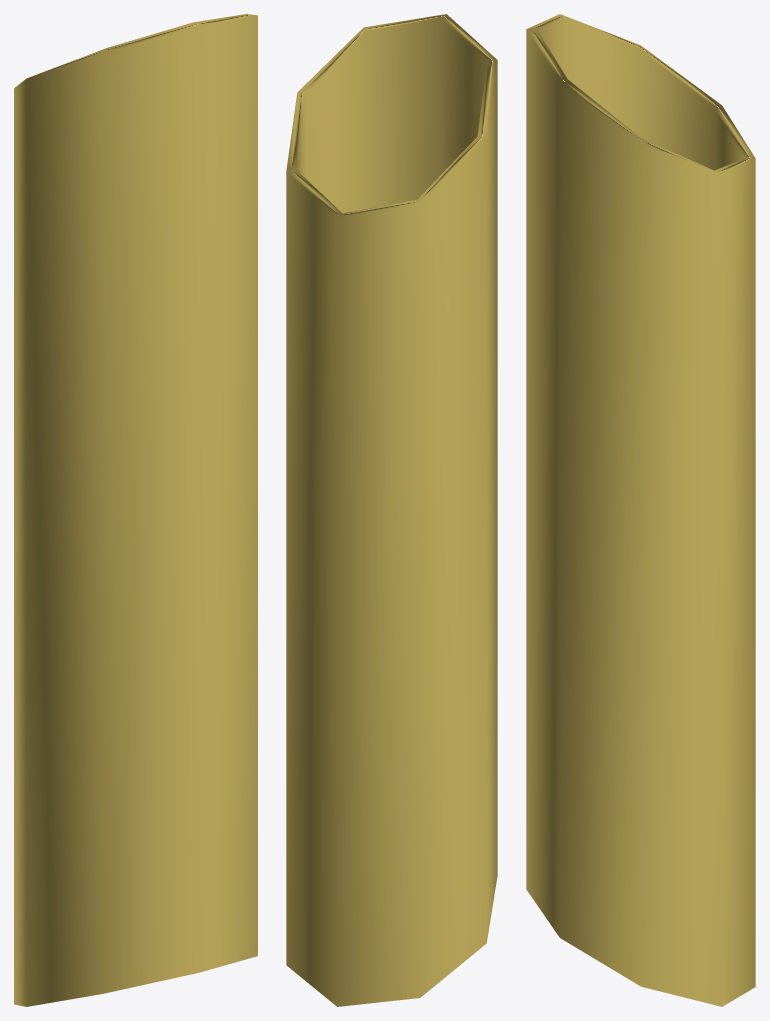
Rendered from Pasta3.fbx.
3 views of the same model, side by side, from view 1: azimuth 30°, elevation 25°; view 2: azimuth 150°, elevation 25°; view 3: azimuth 270°, elevation 25° (orthographic). The views are drawn at different scales.
Parts seen in each view (by area): view 1: pasta3; view 2: pasta3; view 3: pasta3.
Boxes of the visible parts, <box> form: pasta3: <box>14,14,257,1006</box>; pasta3: <box>286,14,497,1006</box>; pasta3: <box>526,14,755,1006</box>.
Size of the model in its own units: 13.1 by 60.31 by 13.1.
